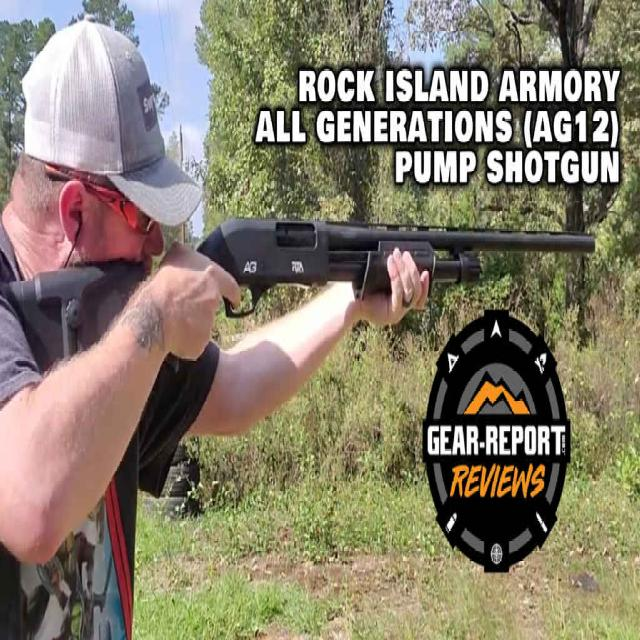ShotGun: (4, 219, 595, 369)
